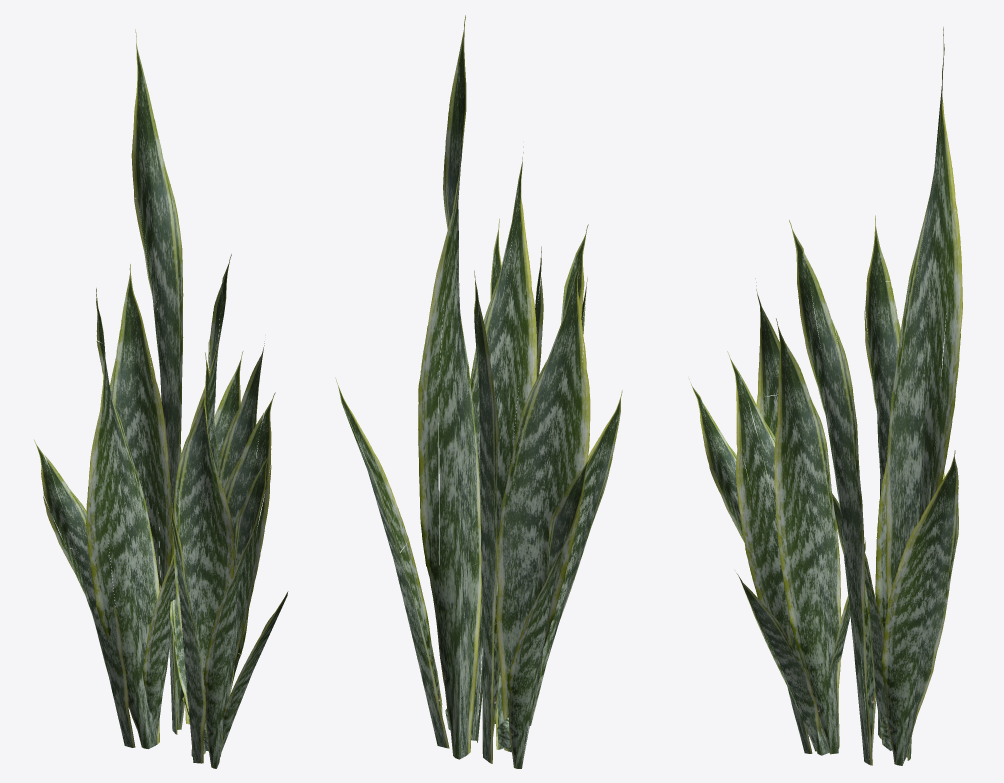
The model's file is Snake_Plant_Model_0.obj.
3 views of the same model, side by side, from view 1: azimuth 30°, elevation 25°; view 2: azimuth 150°, elevation 25°; view 3: azimuth 270°, elevation 25° (orthographic). The views are drawn at different scales.
Parts seen in each view (by area): view 1: Foliage; view 2: Foliage; view 3: Foliage.
Boxes of the visible parts, box(x1,y1,x2,y2) form: Foliage: box(33, 29, 288, 768); Foliage: box(335, 15, 622, 768); Foliage: box(688, 27, 962, 765).
Bounding box in the file's own units: 0.28 × 0.75 × 0.292.
1 material, 1 textured.
